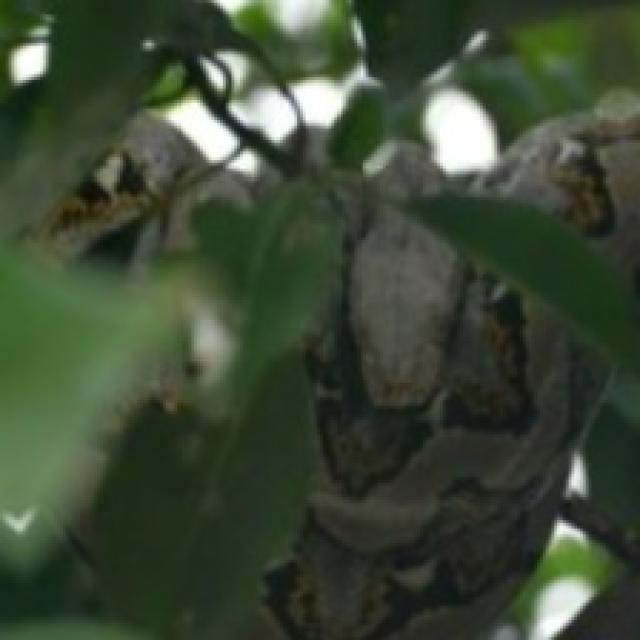reticulated python: (281, 106, 639, 640), (46, 116, 264, 253)
